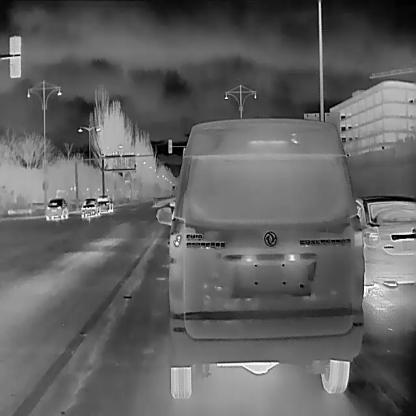car: (155, 117, 365, 397), (354, 194, 416, 287), (45, 197, 68, 220), (79, 196, 100, 218), (95, 194, 113, 212)
